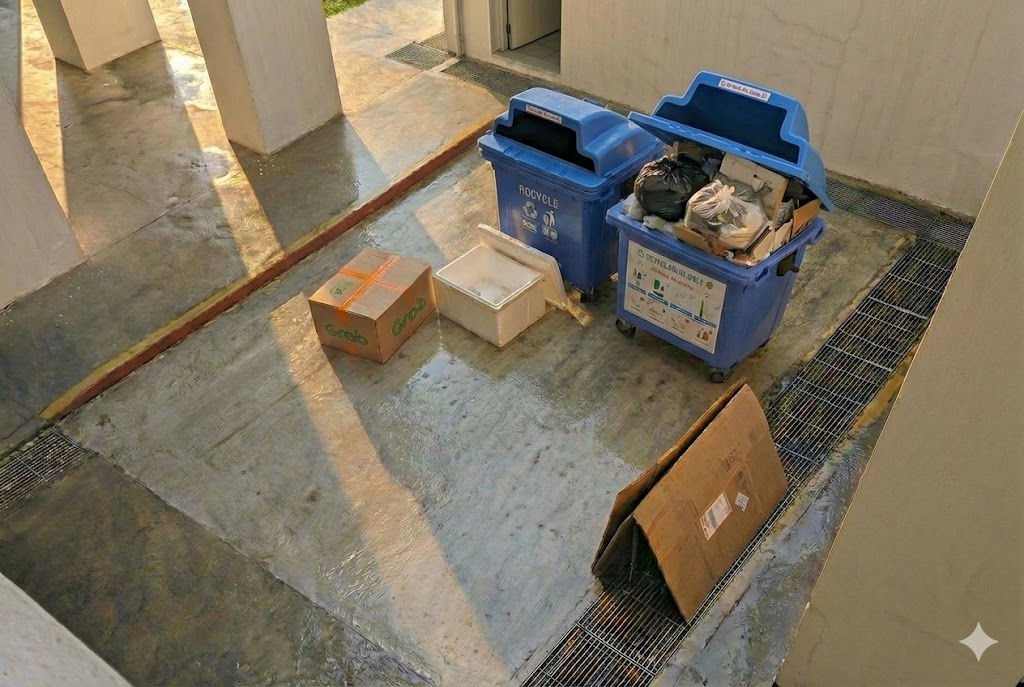bin_empty: (479, 87, 661, 291)
bin_full: (606, 72, 834, 378)
bulk_waste: (594, 385, 786, 619), (433, 224, 568, 347), (308, 248, 435, 362)
